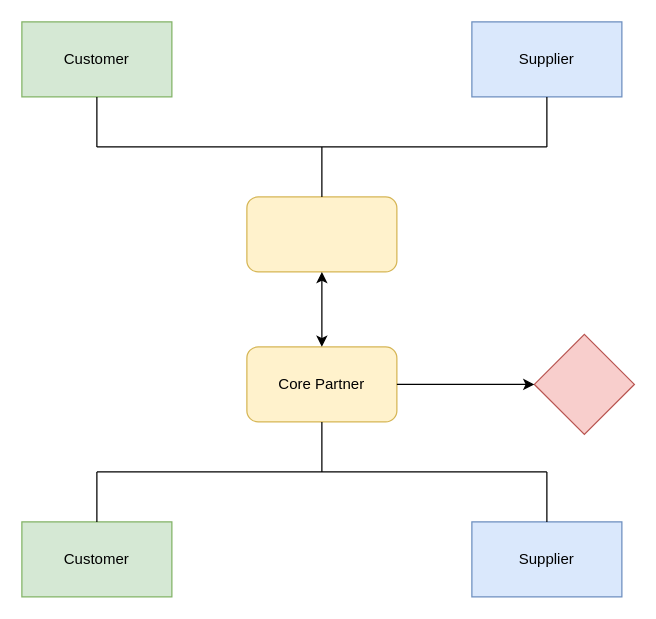
Some shapes in this 656 by 619 pixel diagram are drawn without their labels. The centre of each missing label's shape, as x and y in pixels:
"Admin service" belongs at pixel 583 383.
"Portal" belongs at pixel 321 234.
